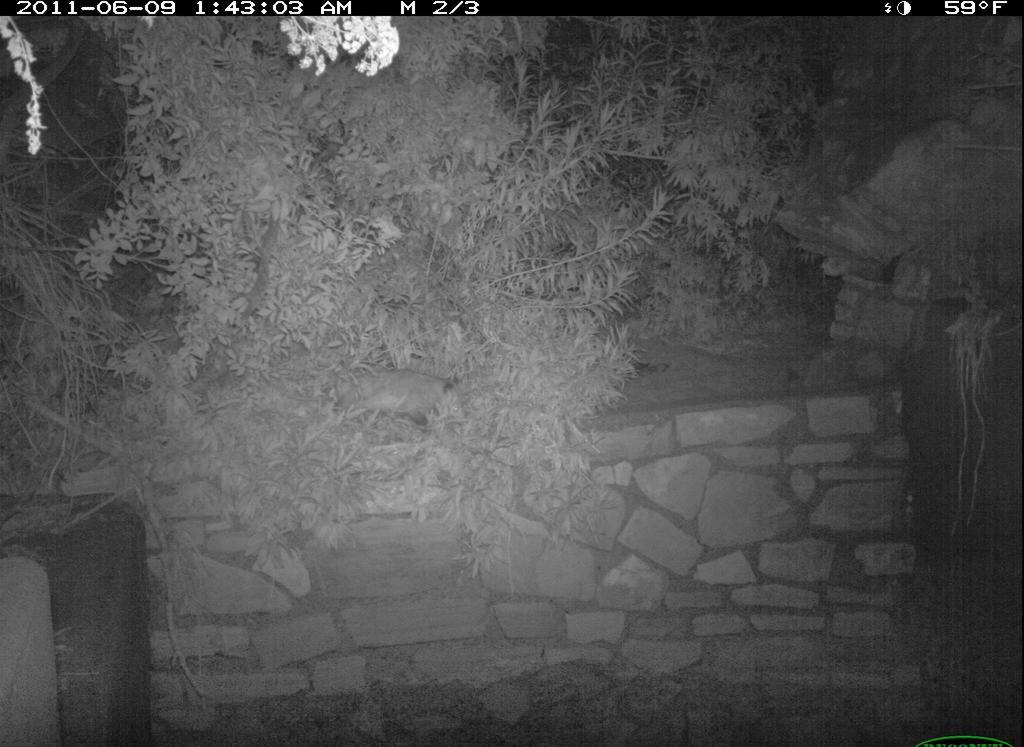opossum: (295, 363, 489, 451)
